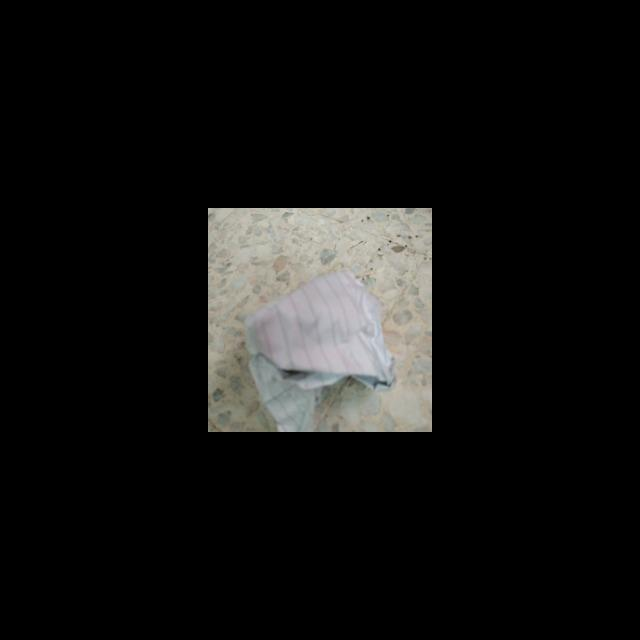paper: (228, 246, 402, 432)
